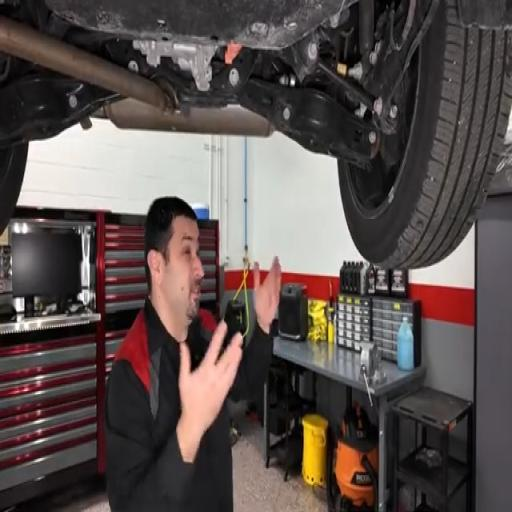exhaust: (94, 99, 274, 136)
tire: (339, 0, 511, 268), (0, 143, 28, 233)
wheel: (339, 0, 511, 268)
